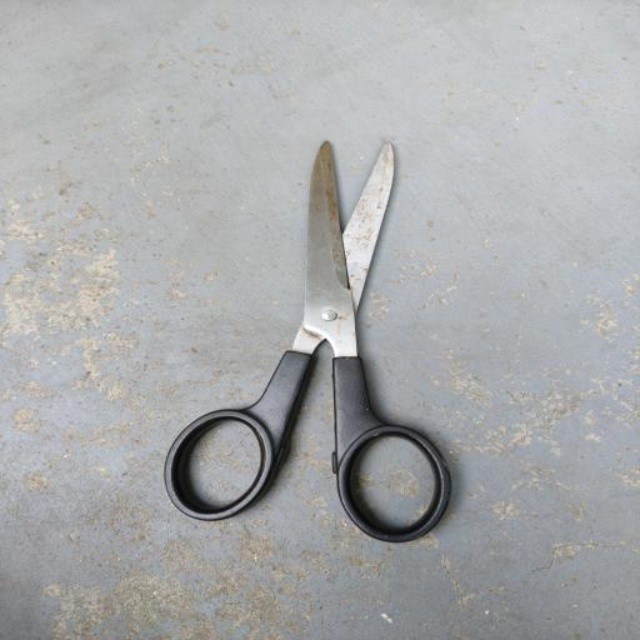scissor: (157, 135, 456, 547)
